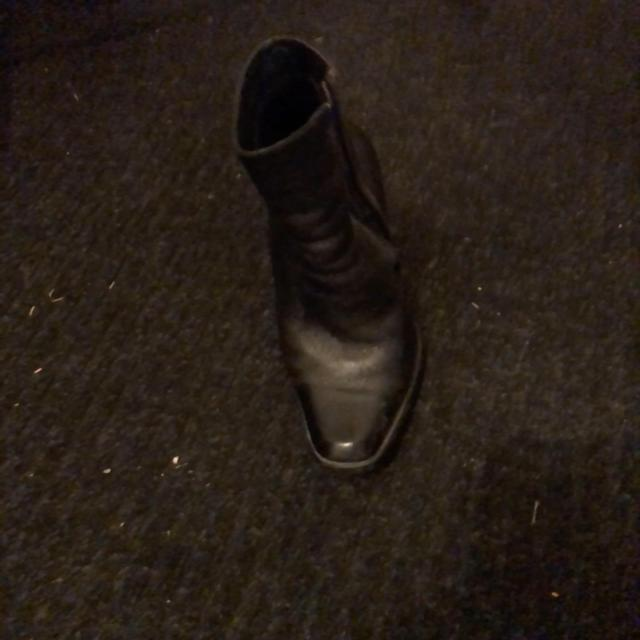shoe: (232, 38, 426, 476)
